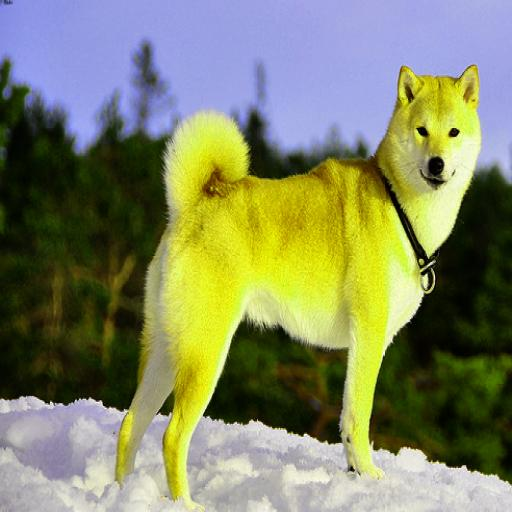dog_face: (391, 56, 481, 187)
